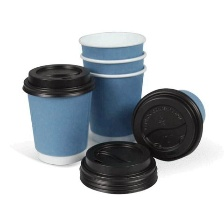paper_cup: (73, 27, 151, 148), (17, 58, 100, 168), (127, 83, 208, 164)
